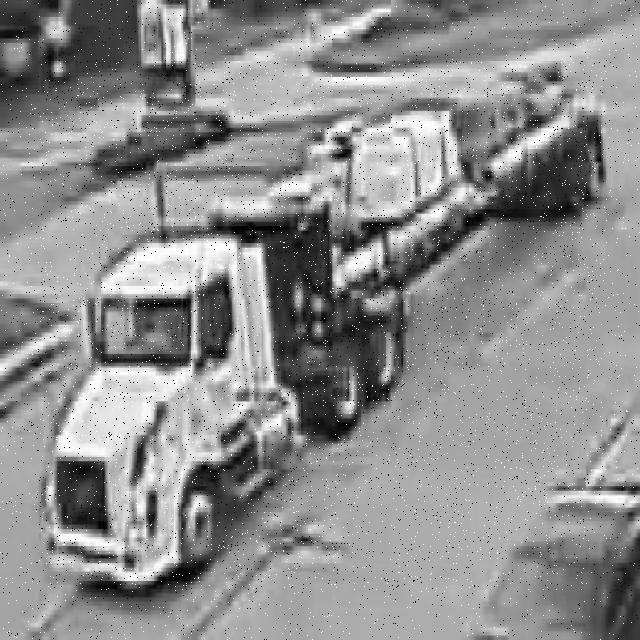Box Truck: (40, 61, 604, 590)
